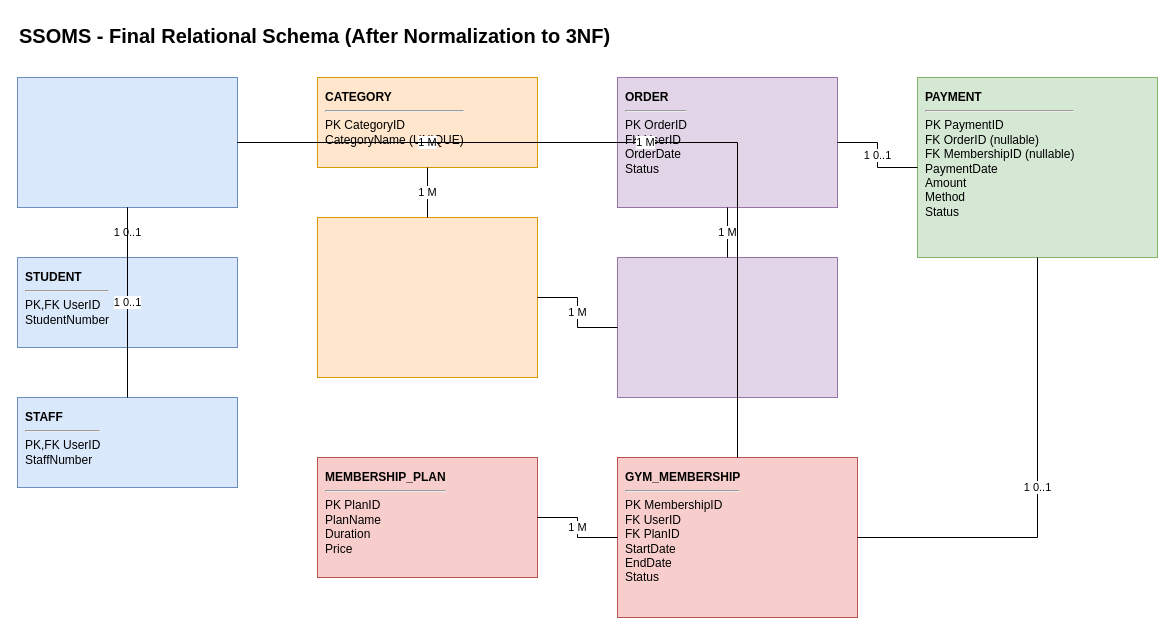
Image size: 1175x635. Some labels were removed from this diagram. Here are the shapes that lost their labels. From the top down, the centre of each, then its label:
At (127,142): "USER PK UserID Name Email (UNIQUE) Phone UserType".
At (427,297): "PRODUCT PK ProductID FK CategoryID ProductName Description Price StockQty".
At (727,327): "ORDER_ITEM PK OrderItemID FK OrderID FK ProductID Quantity UnitPrice".
